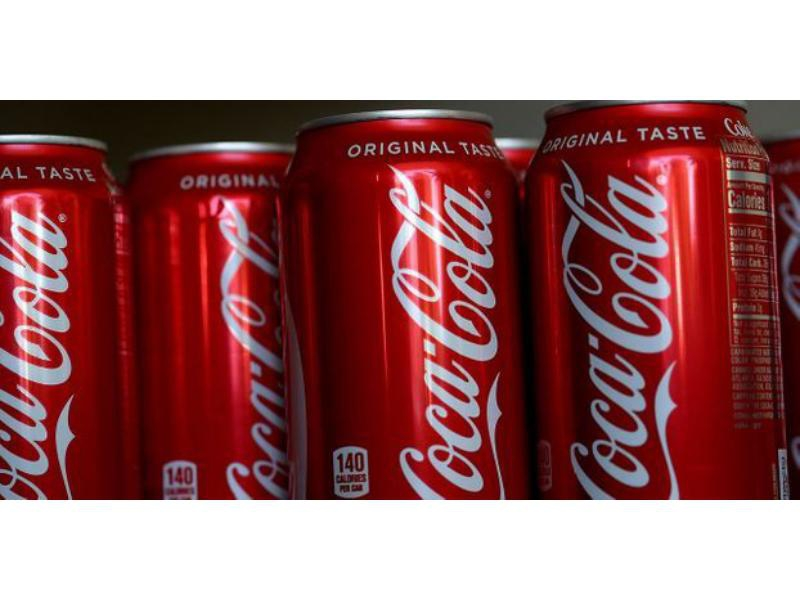can: (542, 102, 771, 497), (295, 112, 507, 500), (117, 148, 281, 501), (0, 137, 105, 500)
